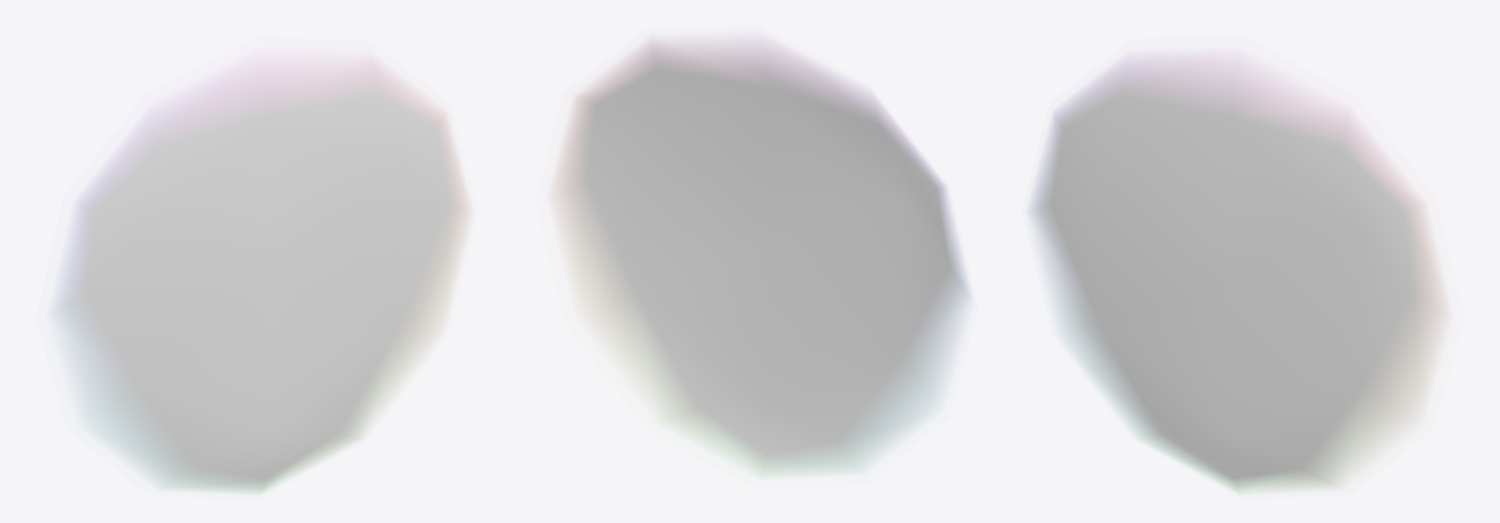
The model's file is cloud_base.glb.
3 renders of one model, left to right at view 1: azimuth 30°, elevation 25°; view 2: azimuth 150°, elevation 25°; view 3: azimuth 330°, elevation 25°, orthographic.
Visible parts, largest first — view 1: platform; view 2: platform; view 3: platform.
Boxes of the visible parts, x1,y1,x2,y2 form: platform: [50, 54, 471, 493]; platform: [550, 37, 971, 477]; platform: [1028, 51, 1449, 493].
Bounding box in the file's own units: 249 × 250 × 19.8.
